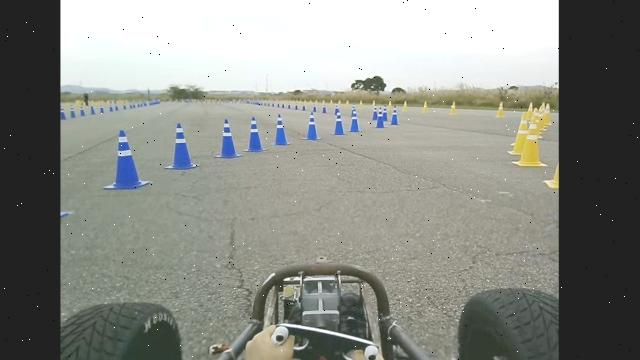blue cone: (103, 128, 151, 190), (164, 124, 204, 172), (208, 115, 242, 162), (243, 112, 272, 155), (273, 108, 296, 151), (302, 110, 331, 144), (328, 106, 348, 137)
yellow cone: (543, 102, 552, 126), (495, 101, 504, 118), (449, 100, 457, 115), (421, 100, 429, 113), (402, 100, 408, 112), (387, 100, 392, 110), (371, 99, 376, 108)
